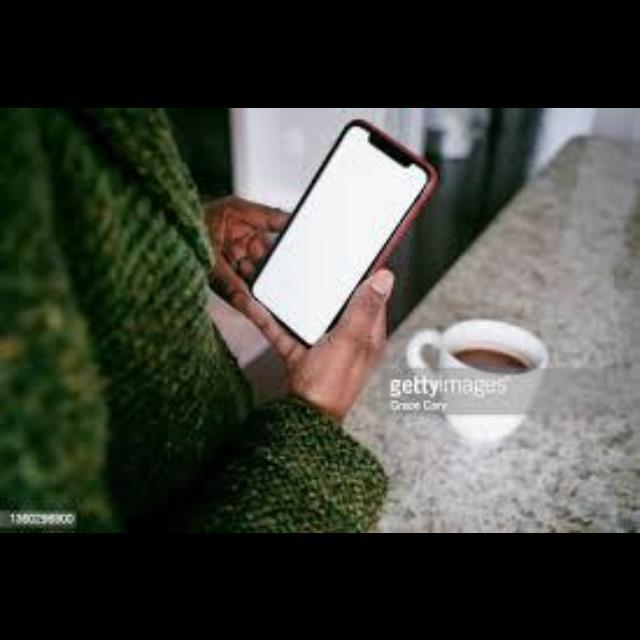phone: (246, 114, 430, 356)
